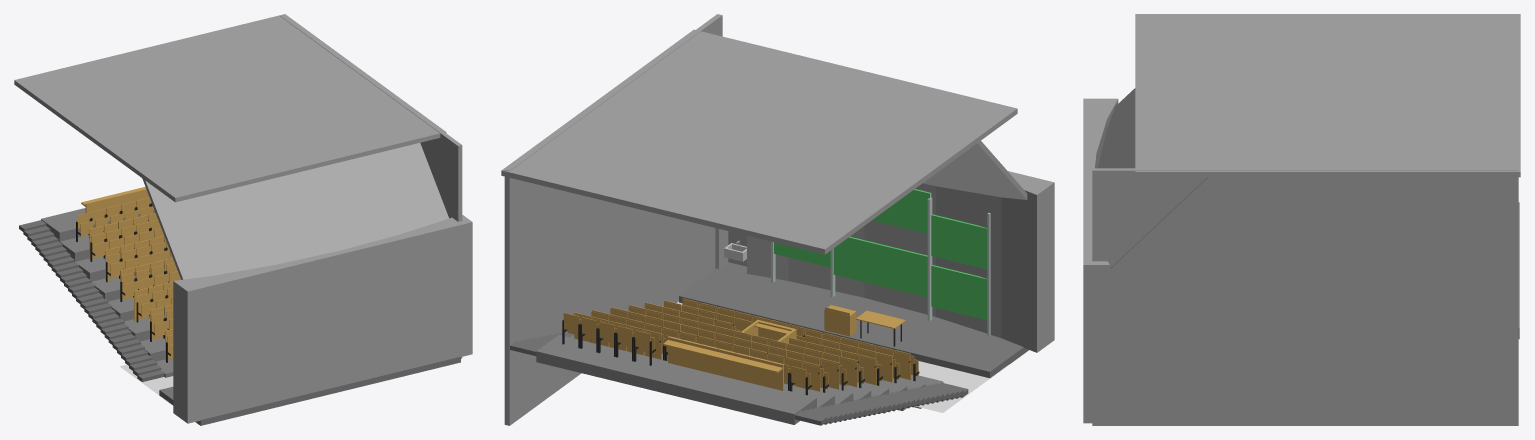
The model's file is Saal8.gltf.
3 views of the same model, side by side, from view 1: azimuth 30°, elevation 25°; view 2: azimuth 150°, elevation 25°; view 3: azimuth 270°, elevation 25° (orthographic). The views are drawn at different scales.
Visible parts, largest first — view 1: Cube.213, Cube.188, Cube.212, Cube.002, Cube.003, Cube.200, Cube.001, Cube.187, Plane; view 2: Cube.213, Cube.200, Cube.188, Cube.001, Cube.189, Cube.003, Cube.187, Cube.212, Cube.002, Plane, Cube.192, Cube.180 (+2 smaller); view 3: Cube.200, Cube.213, Cube.188, Cube.212.
Boxes of the visible parts, x1,y1,x2,y2 form: Cube.213: [14, 14, 446, 202]; Cube.188: [173, 215, 472, 423]; Cube.212: [142, 143, 448, 279]; Cube.002: [19, 220, 164, 381]; Cube.003: [41, 208, 173, 377]; Cube.200: [280, 15, 462, 358]; Cube.001: [159, 356, 460, 425]; Cube.187: [81, 186, 151, 218]; Plane: [120, 364, 173, 405]; Cube.213: [501, 29, 1017, 254]; Cube.200: [504, 14, 722, 425]; Cube.188: [715, 171, 1054, 352]; Cube.001: [679, 262, 1028, 378]; Cube.189: [771, 189, 990, 335]; Cube.003: [536, 335, 943, 424]; Cube.187: [662, 336, 783, 390]; Cube.212: [923, 141, 1027, 199]; Cube.002: [795, 382, 968, 425]; Plane: [676, 301, 1008, 412]; Cube.192: [824, 305, 856, 336]; Cube.180: [741, 319, 796, 345]; Cube.200: [1092, 168, 1518, 425]; Cube.213: [1135, 14, 1520, 177]; Cube.188: [1083, 98, 1118, 423]; Cube.212: [1097, 88, 1215, 275].
Size of the model in its own units: 17.41 by 12.73 by 19.35.
